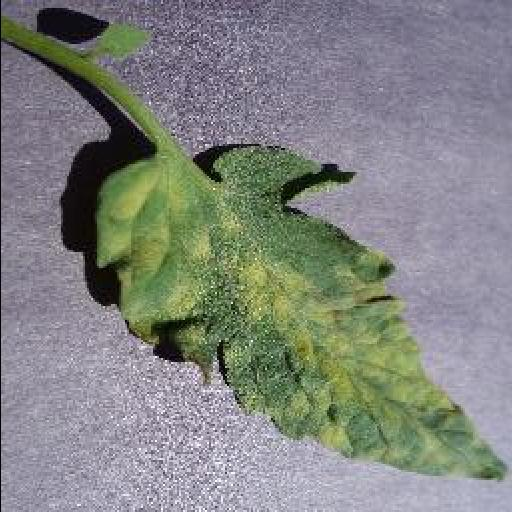disease_tomato: (96, 144, 510, 482)
